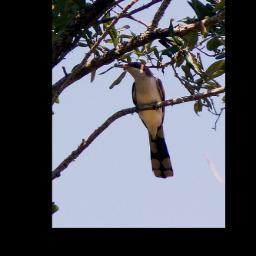Cuckoo: (114, 61, 176, 181)
